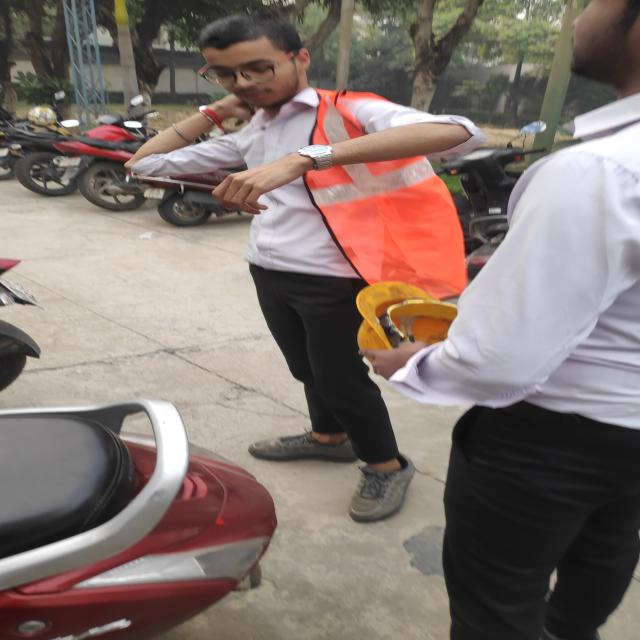unsafe: (128, 21, 451, 515)
